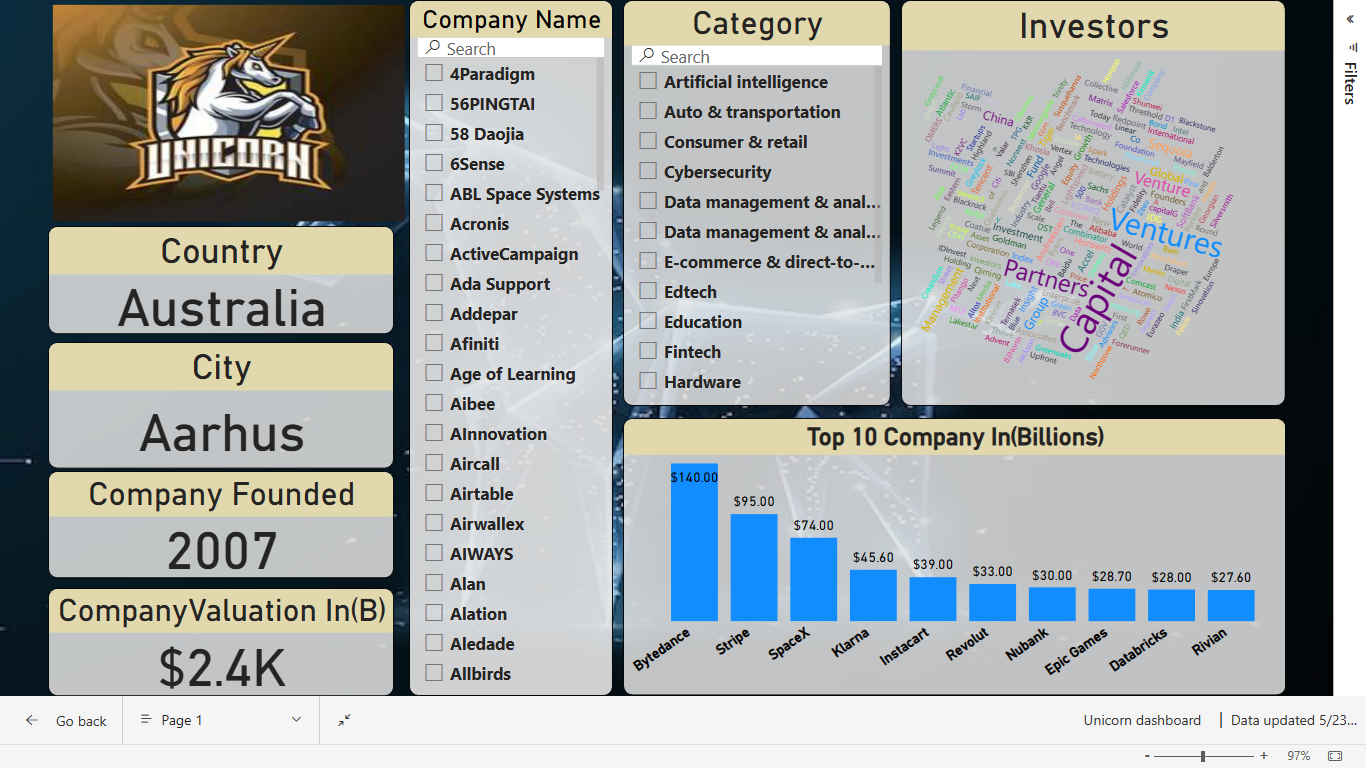

This screenshot's page, from the dashboard's own definition file:
{"tool":"powerbi","page":{"name":"Page 1","canvas":[1280,720],"ordinal":0},"visuals":[{"type":"slicer","title":"Category","fields":{"Values":["20_07_2021 CB Insights Unicorn Companies List.Category"]},"box":[595,0,277.4,419.6],"z":0},{"type":"card","title":"Country","fields":{"Values":["Min(20_07_2021 CB Insights Unicorn Companies List.Country)"]},"box":[0,234.3,357.8,112.1],"z":1000},{"type":"card","title":"City","fields":{"Values":["Min(20_07_2021 CB Insights Unicorn Companies List.City)"]},"box":[0,353.5,357.8,130.8],"z":2000},{"type":"columnChart","title":"Top 10 Company In(Billions)","fields":{"Category":["20_07_2021 CB Insights Unicorn Companies List.Company Name"],"Y":["Sum(20_07_2021 CB Insights Unicorn Companies List.Valuation ($B))"]},"box":[595,432.6,685.5,287.4],"z":3000},{"type":"card","title":"Company Founded","fields":{"Values":["Min(20_07_2021 CB Insights Unicorn Companies List.Year)"]},"box":[0,487.2,357.8,110.7],"z":4000},{"type":"WordCloud1447959067750","title":"Investors","fields":{"Category":["20_07_2021 CB Insights Unicorn Companies List.investors Merged"]},"box":[882.4,0,398.1,419.6],"z":5000},{"type":"slicer","title":"Company Name","fields":{"Values":["20_07_2021 CB Insights Unicorn Companies List.Company Name"]},"box":[373.7,0,211.3,720],"z":6000},{"type":"card","title":"CompanyValuation In(B)","fields":{"Values":["Sum(20_07_2021 CB Insights Unicorn Companies List.Valuation ($B))"]},"box":[0,607.9,357.8,112.1],"z":7000},{"type":"image","box":[0,0,373.7,234.3],"z":8000}]}

Visuals, with their boxes on the page's 1280x720 design canvas (x1, y1, x2, y2). These are canvas units, not pixel positions in the 1366x768 screenshot, which may show the page scaled, cropped or inside an application window:
"Category" slicer: 595/0/872/420
"Country" card: 0/234/358/346
"City" card: 0/354/358/484
"Top 10 Company In(Billions)" columnChart: 595/433/1280/720
"Company Founded" card: 0/487/358/598
"Investors" WordCloud1447959067750: 882/0/1280/420
"Company Name" slicer: 374/0/585/720
"CompanyValuation In(B)" card: 0/608/358/720
image: 0/0/374/234
